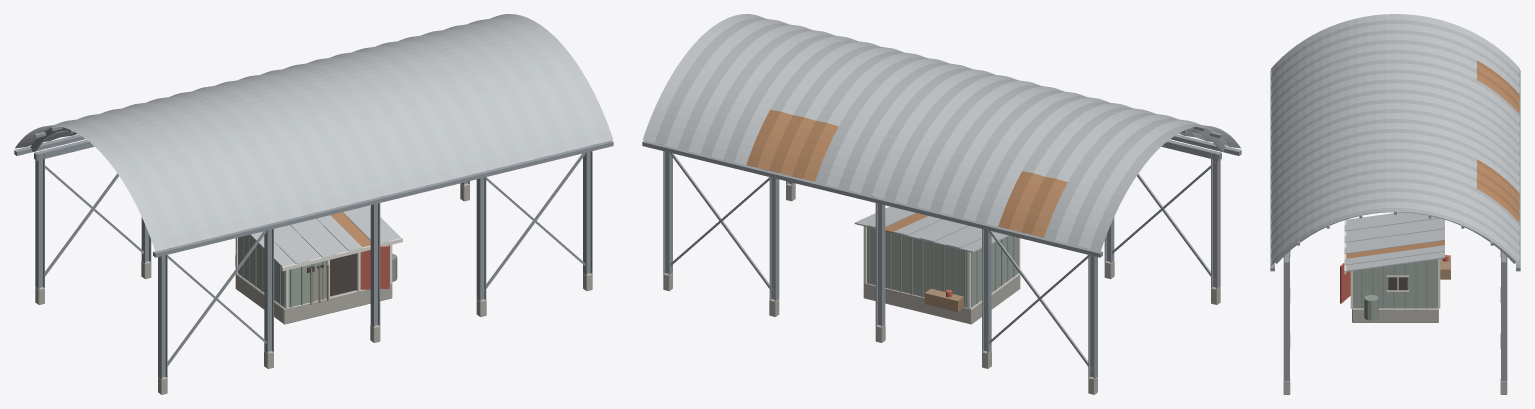
File: farm_outbuildings.glb
3 renders of one model, left to right at view 1: azimuth 30°, elevation 25°; view 2: azimuth 150°, elevation 25°; view 3: azimuth 270°, elevation 25°, orthographic. The views are drawn at different scales.
Parts seen in each view (by area): view 1: fo_haybarn_mesh, fo_shed_mesh; view 2: fo_haybarn_mesh, fo_shed_mesh; view 3: fo_haybarn_mesh, fo_shed_mesh.
Boxes of the visible parts, x1=… form: fo_haybarn_mesh: x1=14, y1=14, x2=613, y2=394; fo_shed_mesh: x1=235, y1=206, x2=402, y2=324; fo_haybarn_mesh: x1=642, y1=14, x2=1241, y2=394; fo_shed_mesh: x1=854, y1=206, x2=1020, y2=324; fo_haybarn_mesh: x1=1270, y1=14, x2=1520, y2=394; fo_shed_mesh: x1=1340, y1=212, x2=1450, y2=322.
Bounding box in the file's own units: 19.4 × 8.65 × 10.38.
